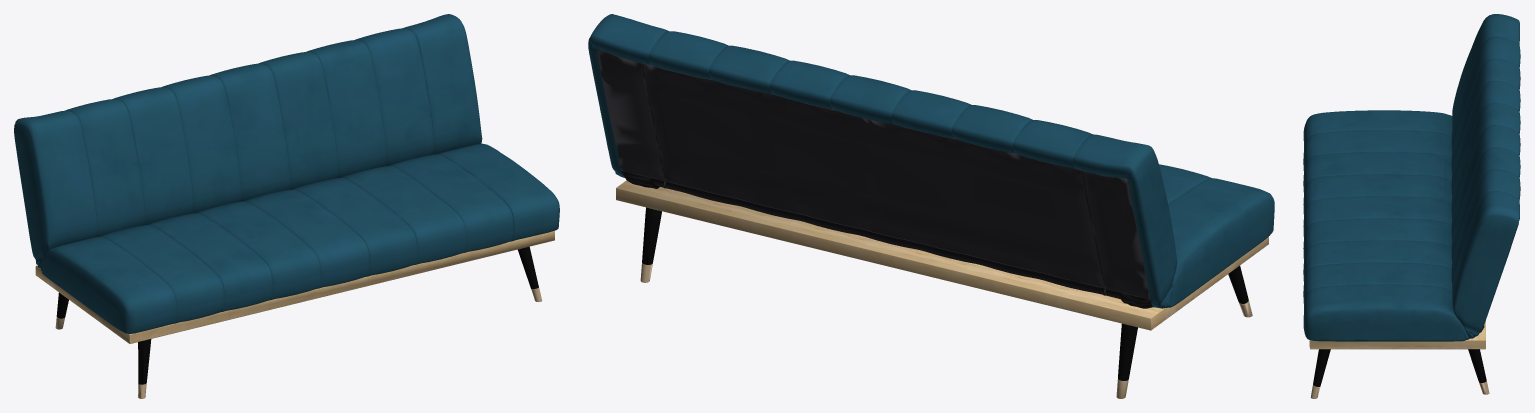
File: B07QXY5X2Z.glb
The picture shows the model from 3 angles, left to right: view 1: azimuth 30°, elevation 25°; view 2: azimuth 150°, elevation 25°; view 3: azimuth 270°, elevation 25°; orthographic projection. The views are drawn at different scales.
Visible parts, largest first — view 1: RootNode; view 2: RootNode; view 3: RootNode.
Boxes of the visible parts, <box> form: RootNode: <box>14,14,559,398</box>; RootNode: <box>588,14,1274,398</box>; RootNode: <box>1303,14,1520,398</box>.
Bounding box in the file's own units: 1.81 × 0.8253 × 0.8299.
1 material, 1 textured.
